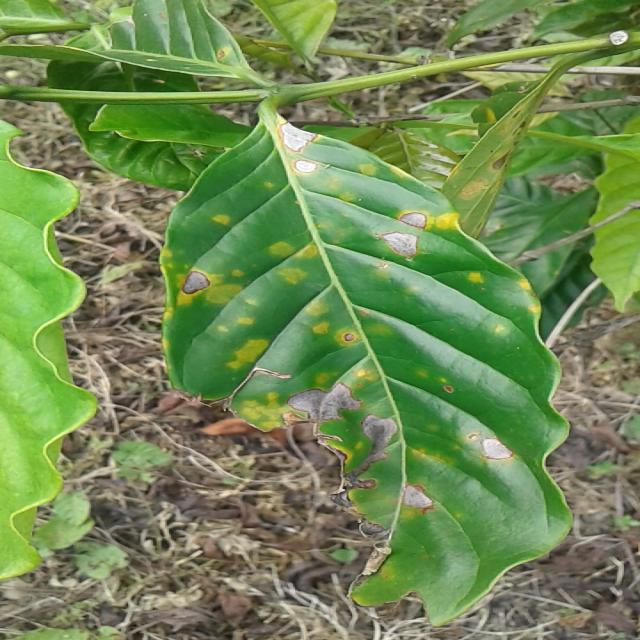Enfermedad-Roya: (159, 122, 572, 628)
